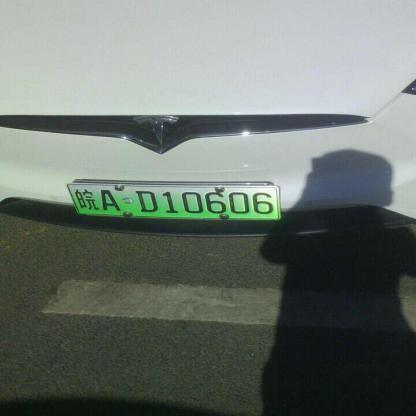lp: (65, 184, 279, 217)
